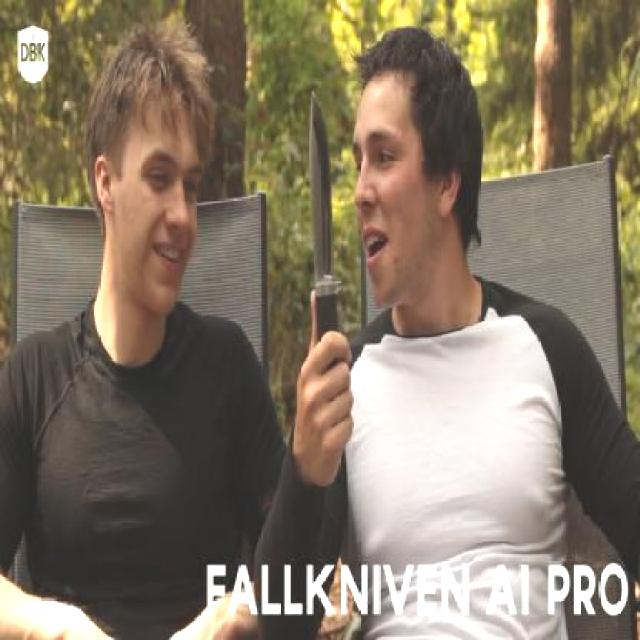knife: (305, 78, 360, 416)
